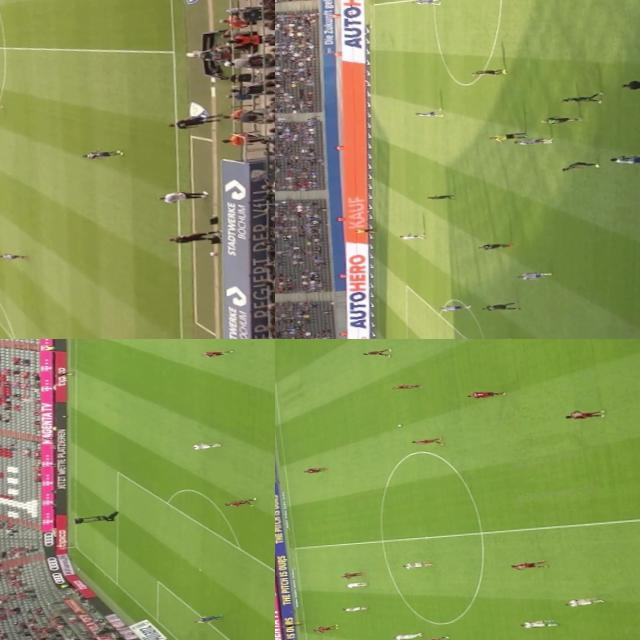ball: (390, 419, 406, 428)
player: (561, 403, 608, 422), (560, 90, 605, 105), (482, 298, 523, 314), (608, 148, 640, 168), (187, 610, 226, 626), (558, 157, 602, 171), (540, 112, 584, 126), (511, 134, 556, 147), (81, 147, 126, 159), (466, 386, 507, 399), (474, 238, 514, 251), (354, 344, 393, 357), (222, 495, 260, 508), (564, 594, 601, 607), (516, 268, 554, 280), (437, 300, 474, 312), (517, 618, 556, 629), (410, 106, 445, 118), (422, 190, 457, 202), (201, 346, 236, 358), (506, 558, 547, 568), (468, 66, 508, 76), (188, 439, 220, 451), (409, 433, 441, 445), (398, 230, 429, 241), (295, 464, 327, 474), (391, 630, 423, 640), (396, 560, 434, 568), (338, 568, 366, 578), (392, 381, 418, 391), (310, 622, 336, 632), (340, 604, 368, 612), (409, 0, 444, 6), (0, 251, 26, 259), (475, 334, 514, 339), (340, 580, 364, 588), (415, 636, 449, 640)
